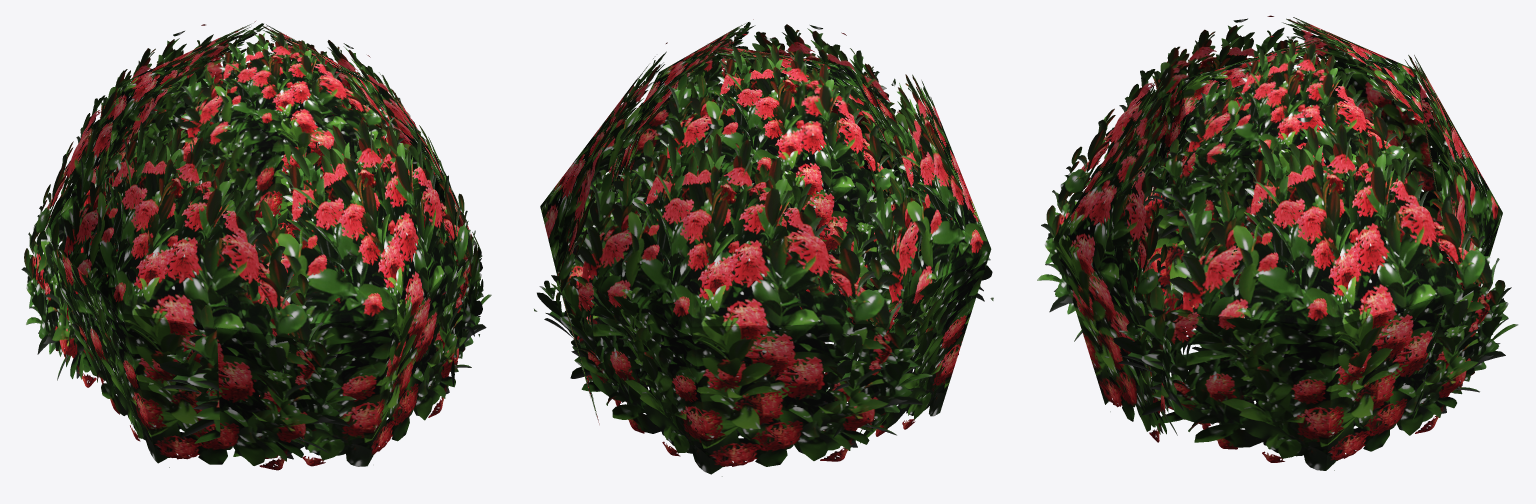
Rendered from Arbusto_IxoraRosa.fbx.
The picture shows the model from 3 angles, left to right: view 1: azimuth 30°, elevation 25°; view 2: azimuth 150°, elevation 25°; view 3: azimuth 270°, elevation 25°; orthographic projection.
Visible parts, largest first — view 1: Plane.034; view 2: Plane.034; view 3: Plane.034.
Boxes of the visible parts, box(x1,y1,x2,y2) form: Plane.034: box(21, 21, 491, 470); Plane.034: box(534, 19, 993, 476); Plane.034: box(1037, 15, 1518, 470).
Size of the model in its own units: 155 by 139 by 165.
Materials: 1 (1 with a texture image).
